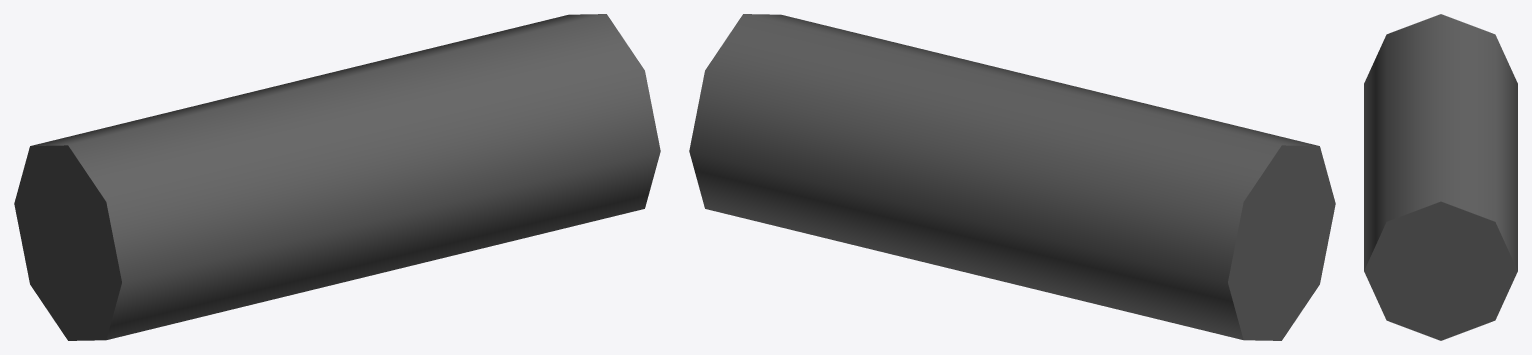
Rendered from pipe_015.fbx.
3 renders of one model, left to right at view 1: azimuth 30°, elevation 25°; view 2: azimuth 150°, elevation 25°; view 3: azimuth 270°, elevation 25°, orthographic. The views are drawn at different scales.
Visible parts, largest first — view 1: pipe_015; view 2: pipe_015; view 3: pipe_015.
Part boxes in pixels (x1,y1,x2,y2): pipe_015: (14,14,660,340); pipe_015: (689,14,1335,340); pipe_015: (1364,14,1517,340).
Size of the model in its own units: 232 by 80.58 by 80.58.
